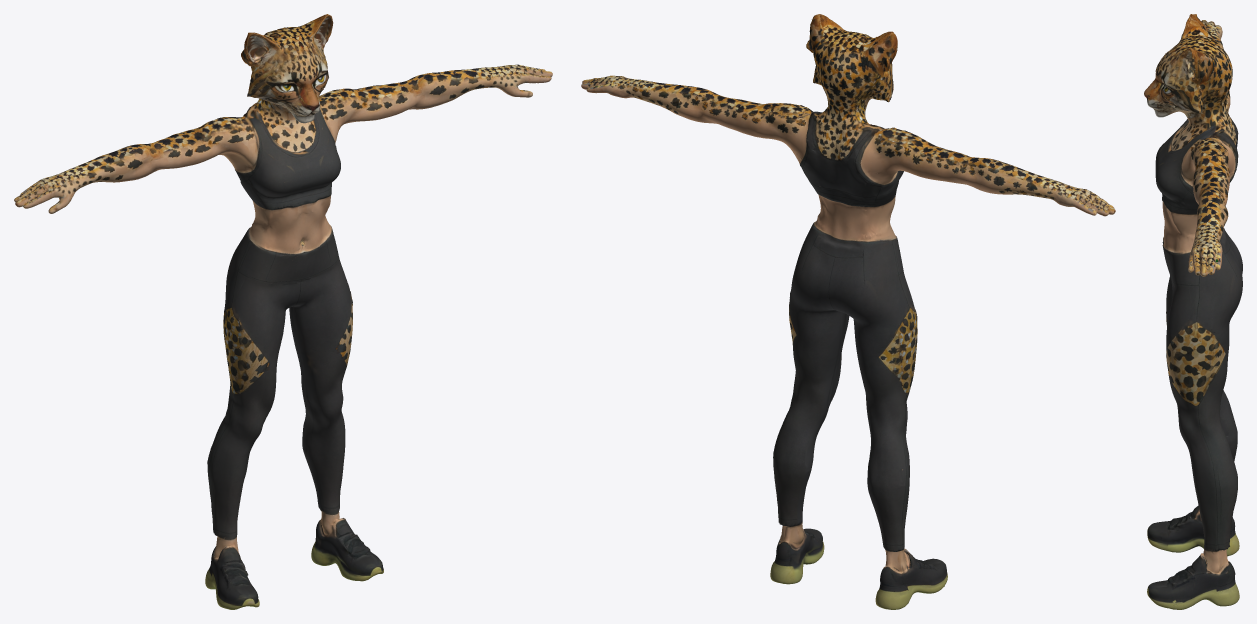
File: 07_LeopardCat.fbx
3 renders of one model, left to right at view 1: azimuth 30°, elevation 25°; view 2: azimuth 150°, elevation 25°; view 3: azimuth 270°, elevation 25°, orthographic. The views are drawn at different scales.
Parts seen in each view (by area): view 1: texture_mapping; view 2: texture_mapping; view 3: texture_mapping.
Part boxes in pixels (x1,y1,x2,y2): texture_mapping: (14, 14, 552, 609); texture_mapping: (581, 14, 1115, 609); texture_mapping: (1144, 14, 1242, 609).
Bounding box in the file's own units: 0.9994 × 0.9992 × 0.1647.
1 material, 1 textured.
